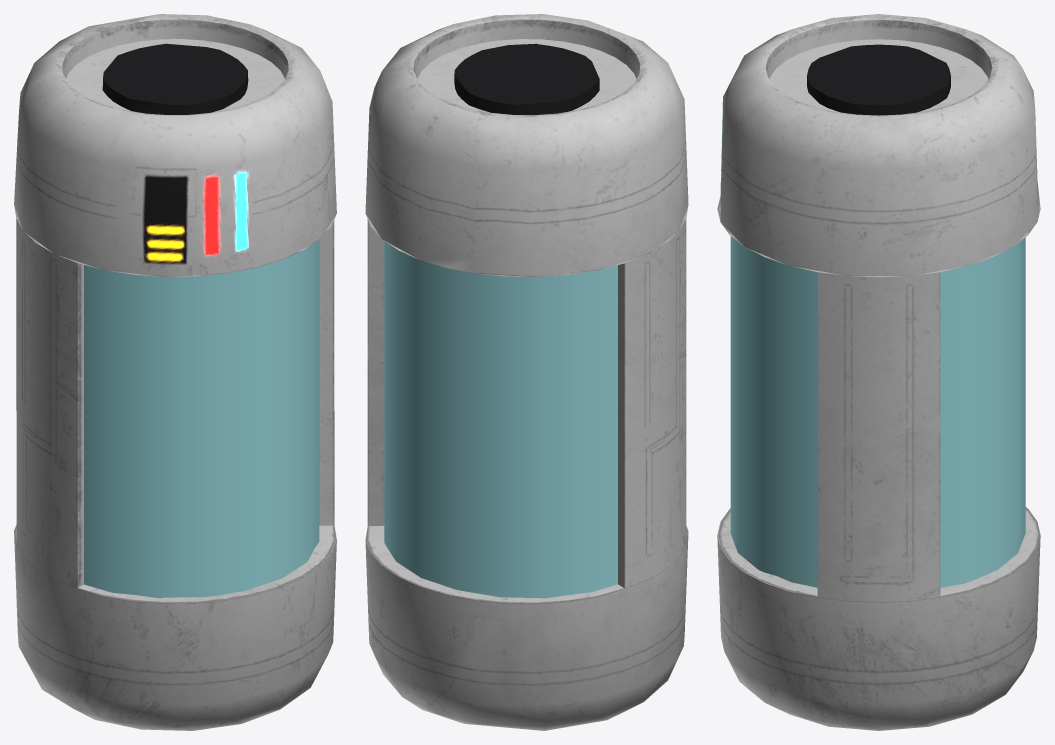
File: FUT0110007.fbx
3 views of the same model, side by side, from view 1: azimuth 30°, elevation 25°; view 2: azimuth 150°, elevation 25°; view 3: azimuth 270°, elevation 25° (orthographic).
Parts seen in each view (by area): view 1: smFUT0110007; view 2: smFUT0110007; view 3: smFUT0110007.
Part boxes in pixels (x1,y1,x2,y2): smFUT0110007: (14,14,336,730); smFUT0110007: (365,14,688,730); smFUT0110007: (717,14,1040,730).
Size of the model in its own units: 55.59 by 117 by 55.98.
Materials: 2 (1 with a texture image).
